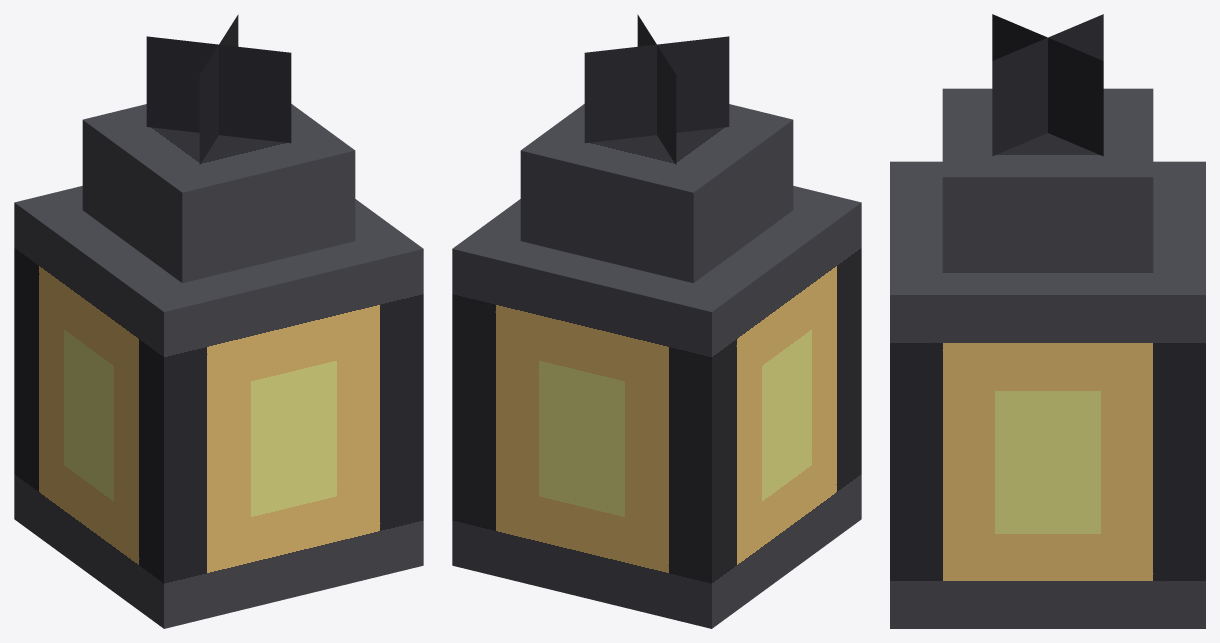
File: lantern.fbx
The picture shows the model from 3 angles, left to right: view 1: azimuth 30°, elevation 25°; view 2: azimuth 150°, elevation 25°; view 3: azimuth 270°, elevation 25°; orthographic projection. The views are drawn at different scales.
Visible parts, largest first — view 1: prop_lantern; view 2: prop_lantern; view 3: prop_lantern.
Part boxes in pixels (box(x1,y1,x2,y2)): prop_lantern: box(14, 14, 423, 628); prop_lantern: box(452, 14, 861, 628); prop_lantern: box(890, 14, 1205, 628).
Bounding box in the file's own units: 0.375 × 0.6875 × 0.375.
1 material, 1 textured.
